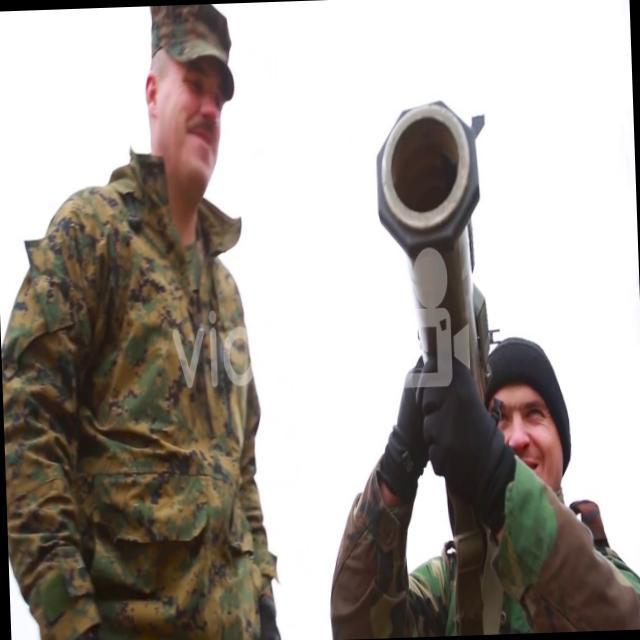rocket: (366, 99, 492, 406)
